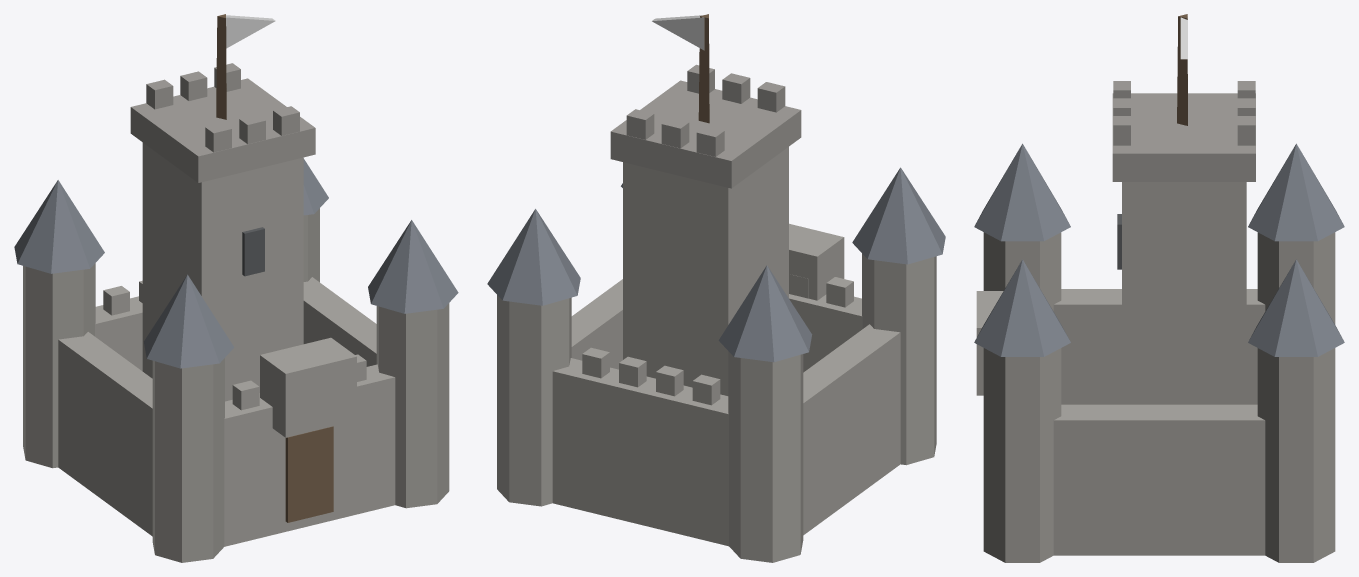
Rendered from castle.glb.
The picture shows the model from 3 angles, left to right: view 1: azimuth 30°, elevation 25°; view 2: azimuth 150°, elevation 25°; view 3: azimuth 270°, elevation 25°; orthographic projection. The views are drawn at different scales.
Visible parts, largest first — view 1: LOD0; view 2: LOD0; view 3: LOD0.
Boxes of the visible parts, box(x1,y1,x2,y2) form: LOD0: box(14, 14, 458, 562); LOD0: box(487, 14, 945, 562); LOD0: box(974, 14, 1344, 562).
Size of what is drawn, in the model's own units: 0.296 by 0.42 by 0.298.
